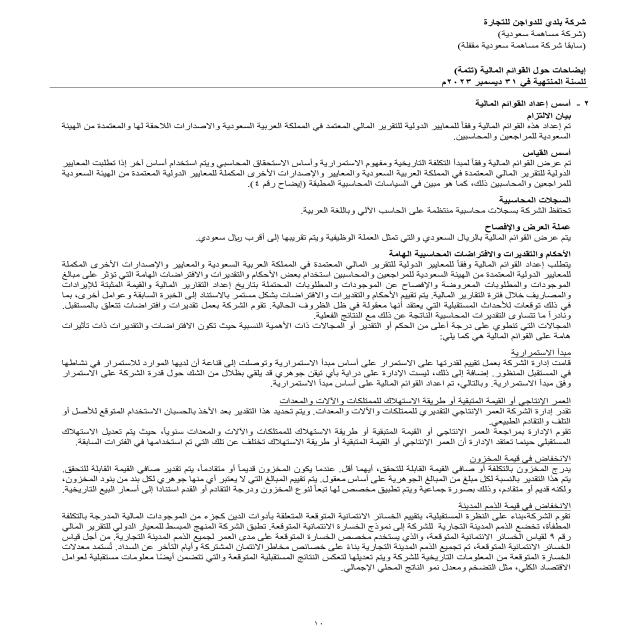notes: (450, 66, 593, 76)
text: (8, 96, 594, 584)
